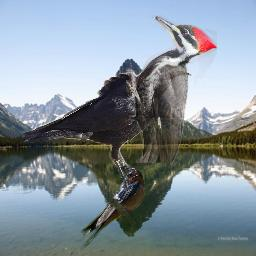Crow: (22, 59, 192, 191)
Swallow: (80, 169, 145, 251)
Woodpecker: (126, 13, 217, 163)
